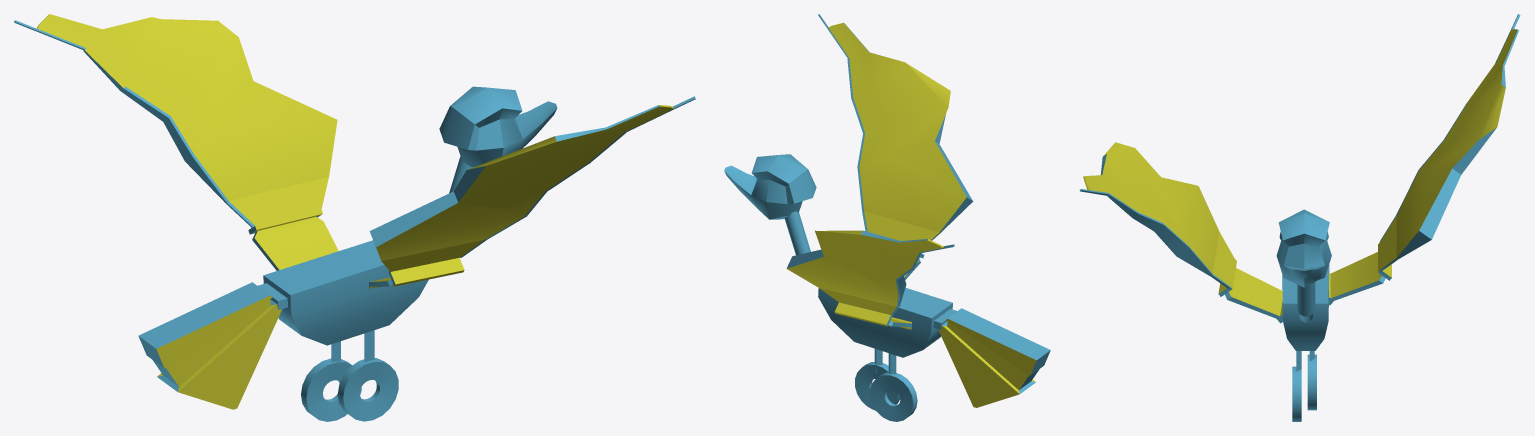
The model's file is Cometa Madera.fbx.
The picture shows the model from 3 angles, left to right: view 1: azimuth 30°, elevation 25°; view 2: azimuth 150°, elevation 25°; view 3: azimuth 270°, elevation 25°; orthographic projection. The views are drawn at different scales.
Parts seen in each view (by area): view 1: Ala Izquierda, Cuerpo, Ala Derecha, Cabeza, Rueda Derecha, Rueda Izquierda; view 2: Ala Derecha, Cuerpo, Ala Izquierda, Cabeza, Rueda Izquierda, Rueda Derecha, Cuello, Soportes reuda; view 3: Ala Derecha, Ala Izquierda, Cabeza, Cuerpo, Cuello, Rueda Izquierda, Rueda Derecha.
Boxes of the visible parts, x1=… form: Ala Izquierda: x1=14, y1=14, x2=338, y2=270; Cuerpo: x1=138, y1=240, x2=428, y2=409; Ala Derecha: x1=369, y1=96, x2=695, y2=288; Cabeza: x1=439, y1=86, x2=557, y2=166; Rueda Derecha: x1=337, y1=358, x2=398, y2=421; Rueda Izquierda: x1=301, y1=358, x2=361, y2=421; Ala Derecha: x1=818, y1=14, x2=973, y2=279; Cuerpo: x1=818, y1=287, x2=1050, y2=407; Ala Izquierda: x1=786, y1=230, x2=954, y2=329; Cabeza: x1=724, y1=154, x2=816, y2=219; Rueda Izquierda: x1=870, y1=372, x2=917, y2=421; Rueda Derecha: x1=855, y1=362, x2=900, y2=410; Cuello: x1=785, y1=211, x2=810, y2=255; Soportes reuda: x1=874, y1=349, x2=896, y2=374; Ala Derecha: x1=1079, y1=142, x2=1282, y2=323; Ala Izquierda: x1=1329, y1=14, x2=1520, y2=305; Cabeza: x1=1276, y1=209, x2=1331, y2=287; Cuerpo: x1=1282, y1=264, x2=1329, y2=350; Cuello: x1=1297, y1=282, x2=1315, y2=322; Rueda Izquierda: x1=1307, y1=354, x2=1316, y2=410; Rueda Derecha: x1=1292, y1=366, x2=1301, y2=421.
Bounding box in the file's own units: 419 × 342 × 434.
